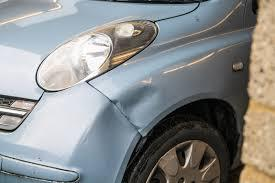fender-dent: (113, 17, 255, 144)
